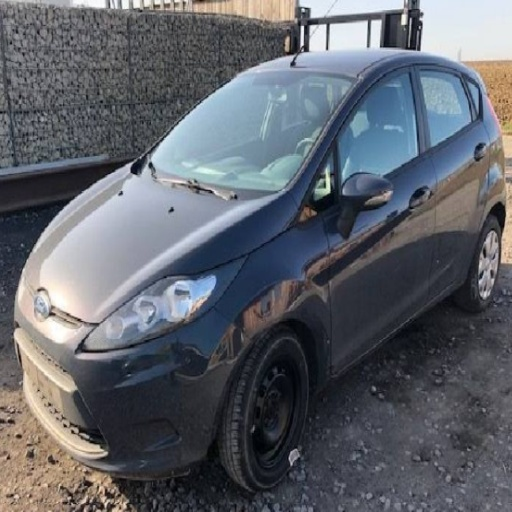dent: (112, 340, 211, 390)
scratch: (103, 458, 149, 471), (126, 371, 136, 380)
